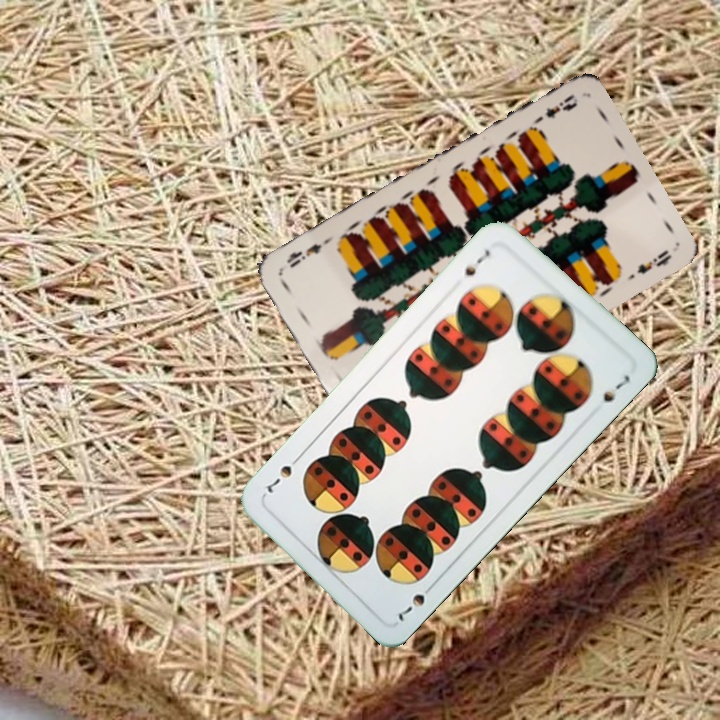E9: (529, 90, 581, 131)
S7: (391, 578, 438, 624), (460, 245, 493, 279)
